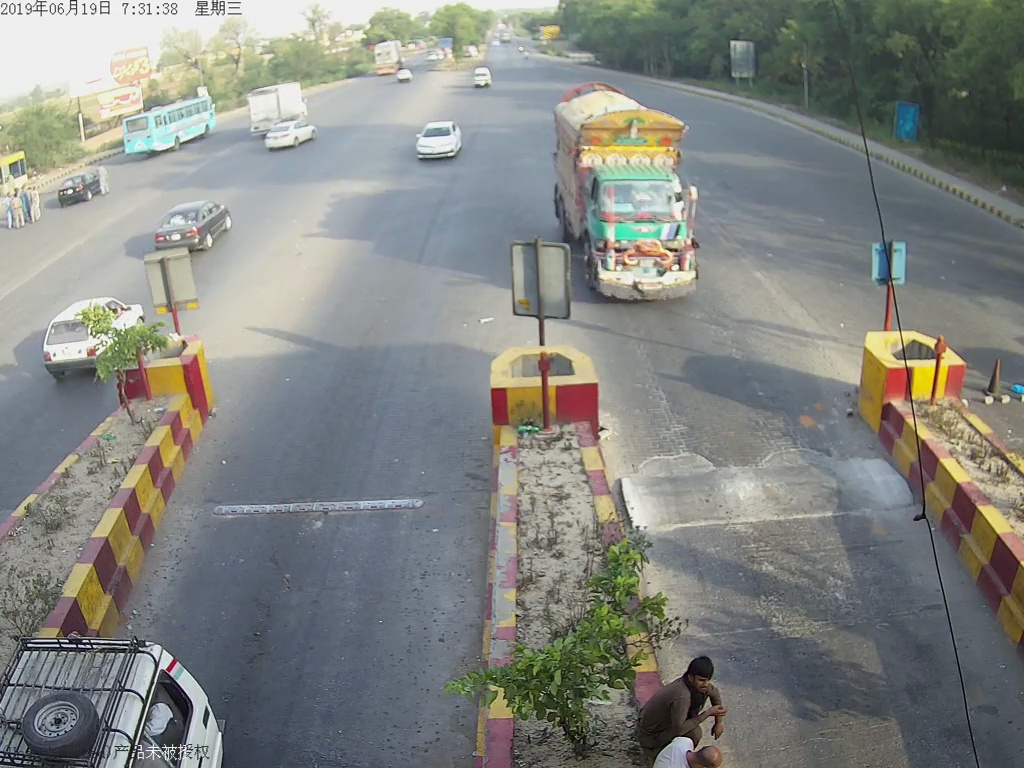Cat-1: (407, 113, 466, 164)
Cat-4: (585, 85, 714, 305)
